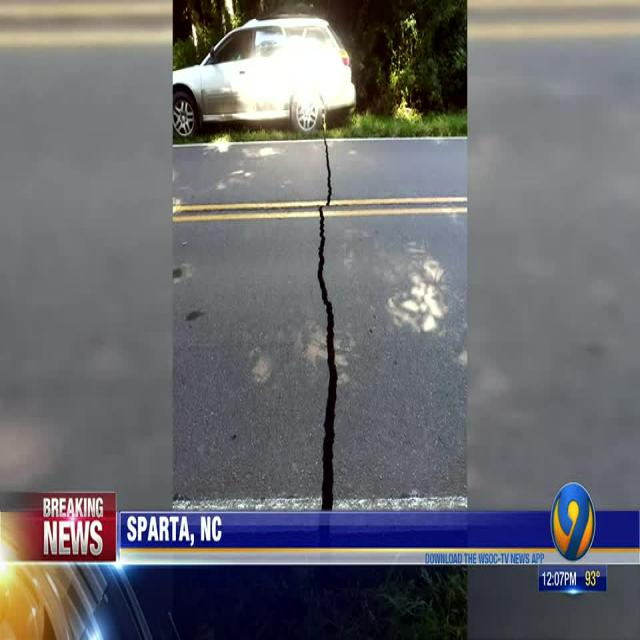Pothole: (286, 20, 416, 640)
